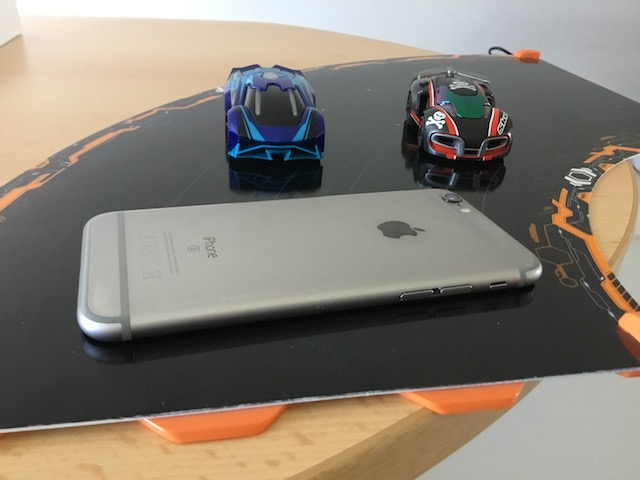car-blue: (219, 60, 328, 172)
car-red: (402, 66, 516, 164)
phone: (73, 185, 544, 348)
